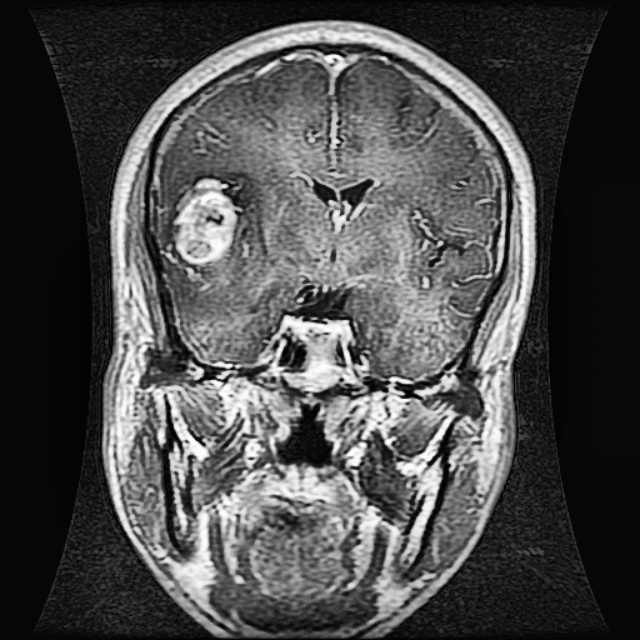Meningioma: (163, 173, 243, 275)
